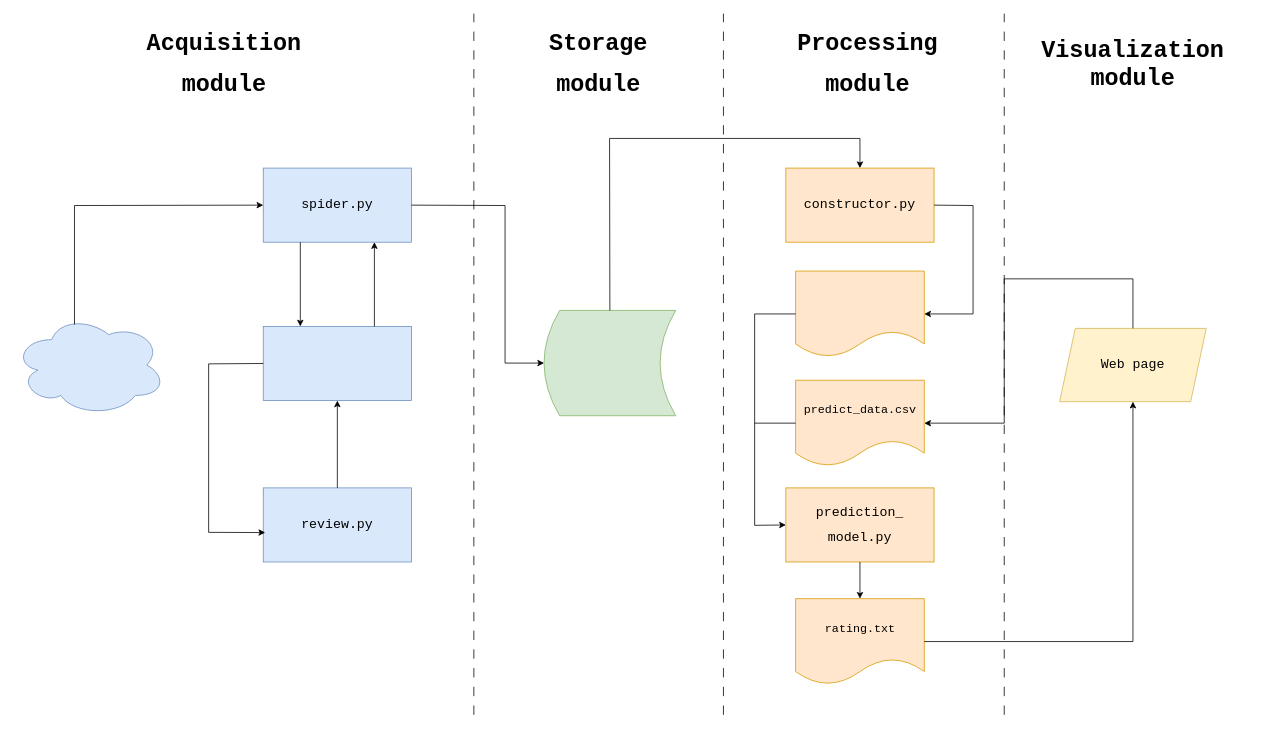
Image size: 1268x729. Some labels were removed from this diagram. Each missing label, with the centre of its shape:
"cleaner.py" belongs at [336,363].
"steam_ learning.sql" belongs at [609,363].
"steam_data.csv" belongs at [859,313].
"SteamSpy" belongs at [89,365].
